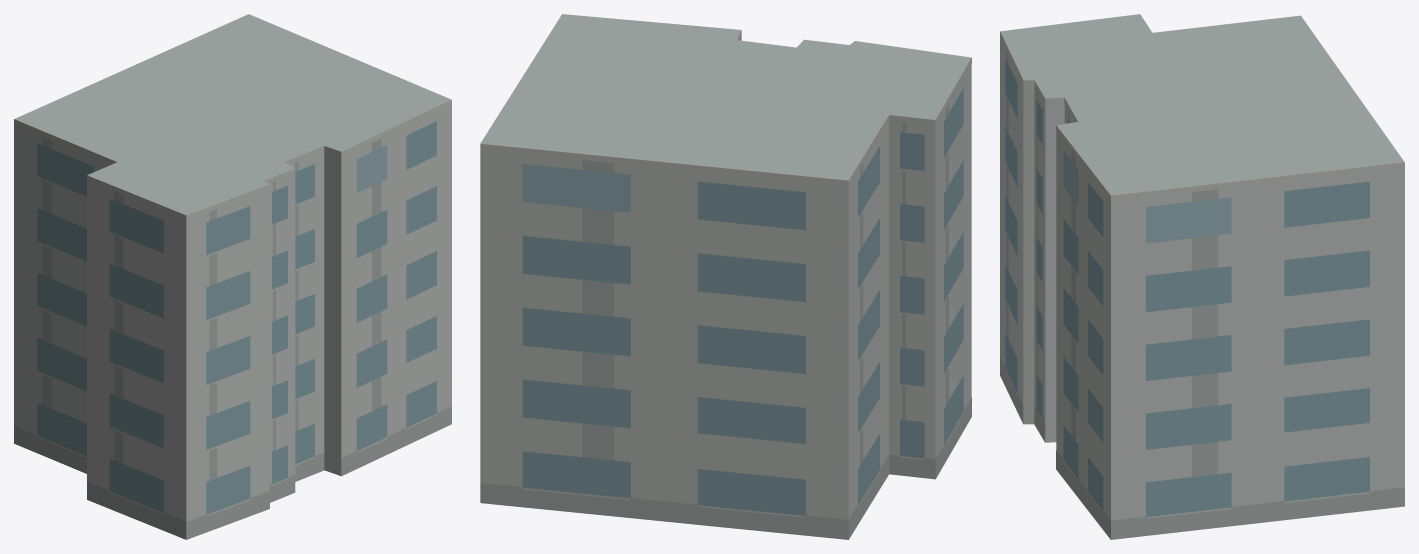
Rendered from survey-upis-33010870.glb.
The picture shows the model from 3 angles, left to right: view 1: azimuth 30°, elevation 25°; view 2: azimuth 150°, elevation 25°; view 3: azimuth 270°, elevation 25°; orthographic projection. The views are drawn at different scales.
Visible parts, largest first — view 1: survey-upis-33010870.tmp; view 2: survey-upis-33010870.tmp; view 3: survey-upis-33010870.tmp.
Boxes of the visible parts, <box> form: survey-upis-33010870.tmp: <box>14,14,451,539</box>; survey-upis-33010870.tmp: <box>480,14,971,539</box>; survey-upis-33010870.tmp: <box>1000,14,1404,539</box>.
Bounding box in the file's own units: 16.54 × 14.6 × 15.57.
